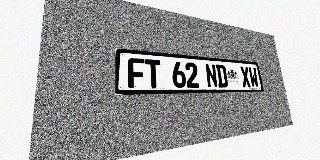2: (185, 62, 199, 88)
6: (171, 61, 187, 88)
D: (215, 64, 228, 87)
F: (128, 58, 146, 88)
N: (205, 64, 218, 88)
T: (145, 59, 162, 88)
W: (248, 67, 259, 87)
X: (240, 66, 251, 87)
